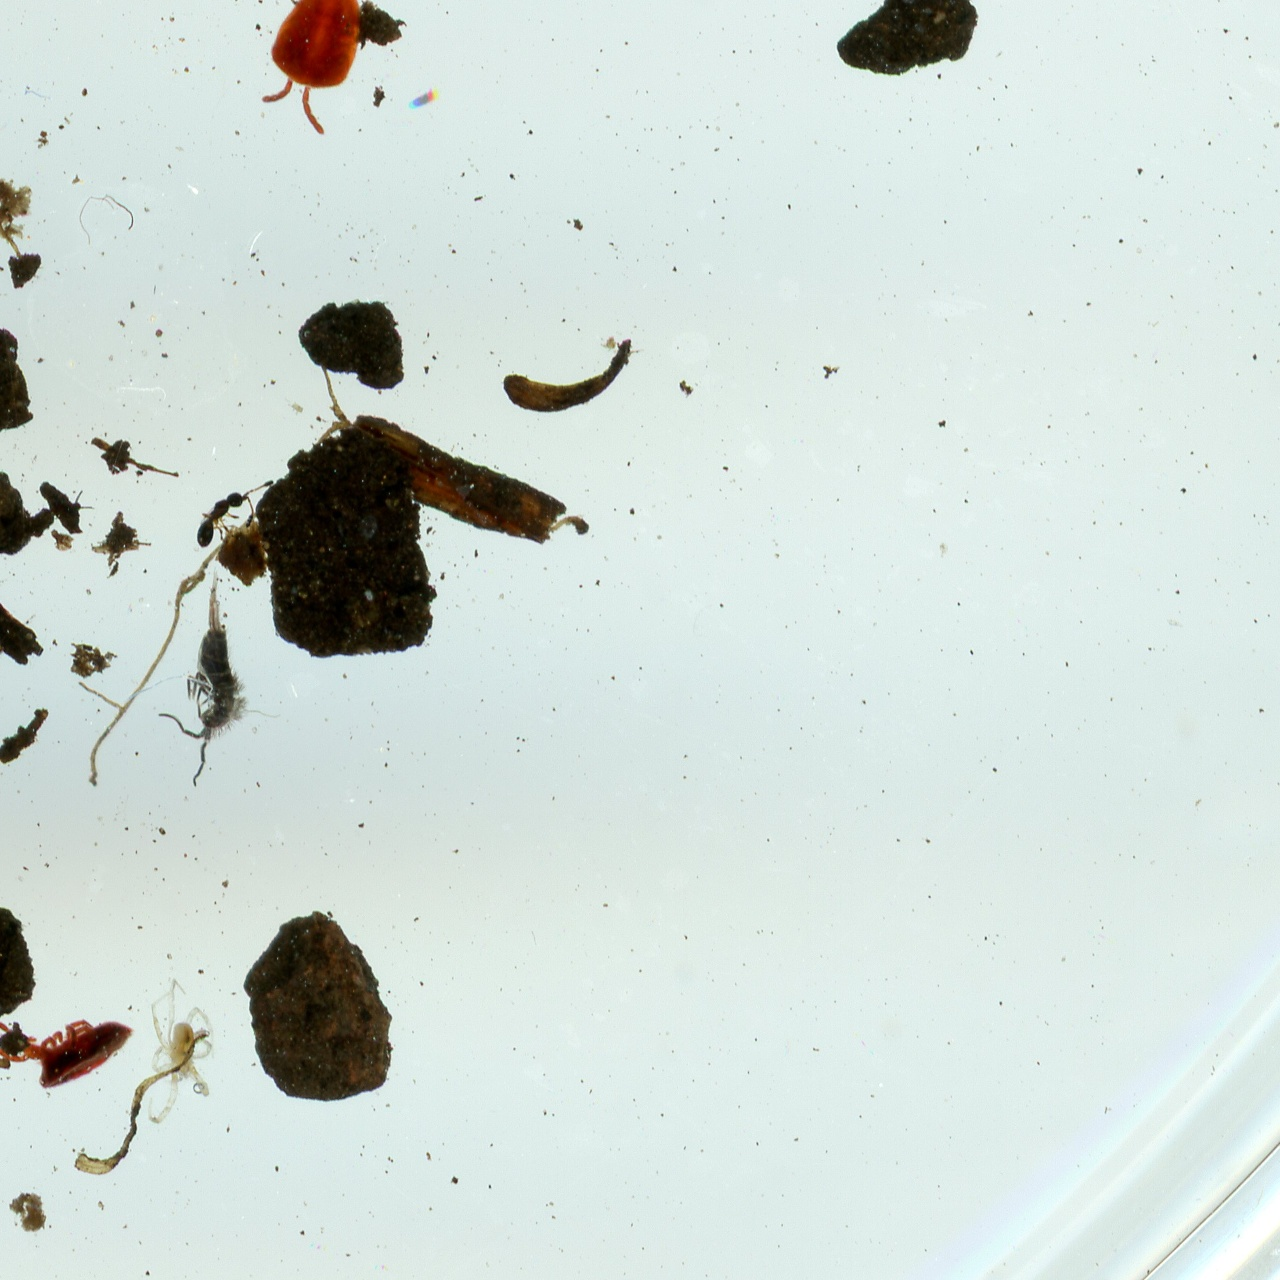arthropod: (156, 563, 252, 790), (0, 990, 143, 1106), (252, 0, 370, 140), (143, 972, 217, 1128), (191, 475, 280, 551)
